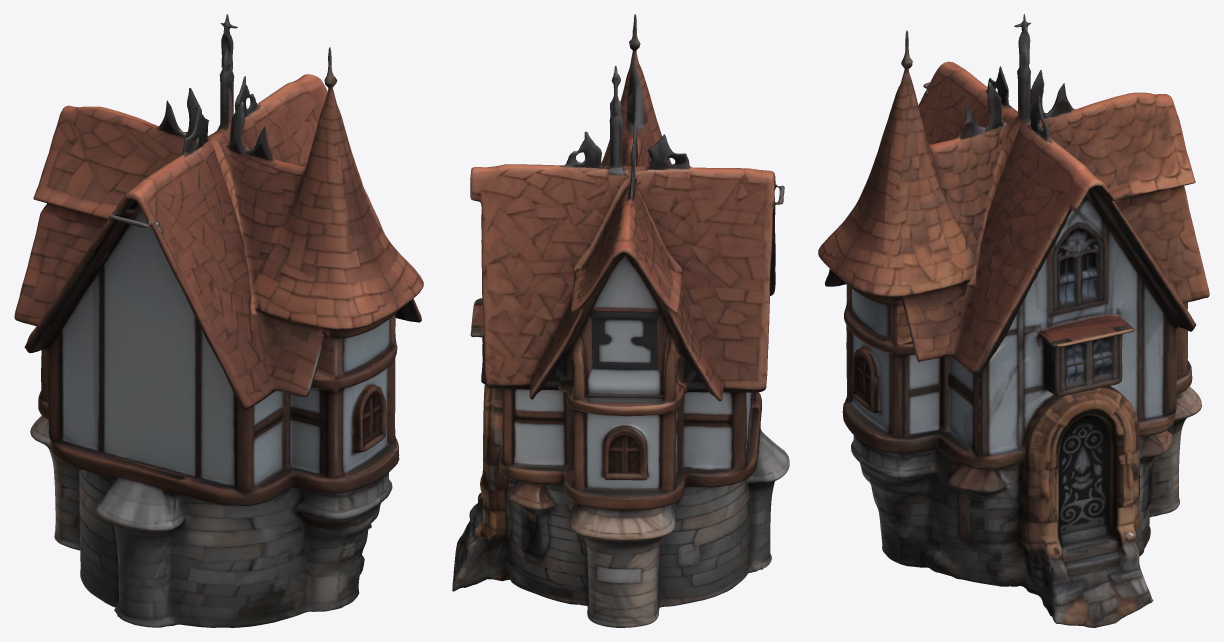
File: fantasy_house_lev2.glb
The picture shows the model from 3 angles, left to right: view 1: azimuth 30°, elevation 25°; view 2: azimuth 150°, elevation 25°; view 3: azimuth 270°, elevation 25°; orthographic projection. The views are drawn at different scales.
Parts seen in each view (by area): view 1: old_castle_1.001; view 2: old_castle_1.001; view 3: old_castle_1.001.
Part boxes in pixels (box(x1,y1,x2,y2)): old_castle_1.001: box(14, 14, 423, 627); old_castle_1.001: box(452, 14, 789, 627); old_castle_1.001: box(818, 14, 1209, 627).
Bounding box in the file's own units: 32.66 × 52.49 × 33.82.
1 material, 1 textured.
